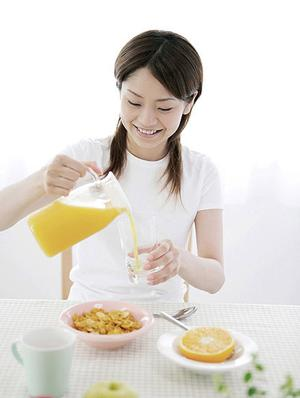person: (2, 33, 227, 307)
